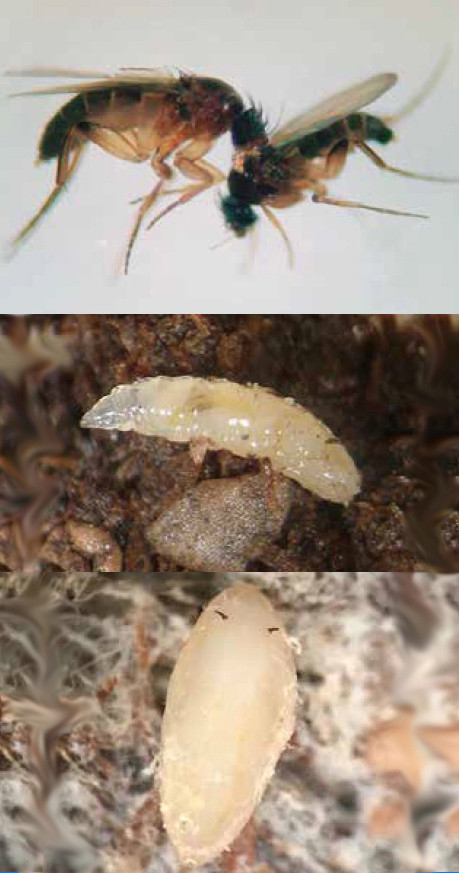phorid fly: (6, 9, 459, 309)
